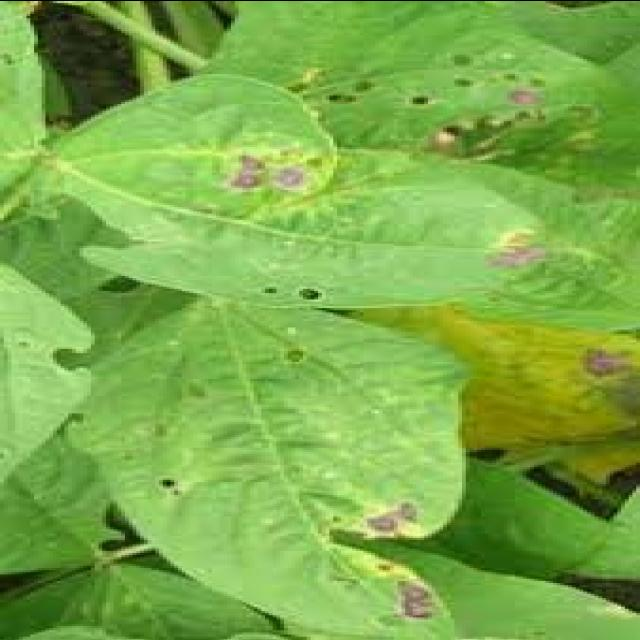bercak_daun: (46, 72, 336, 230), (302, 162, 554, 306)
